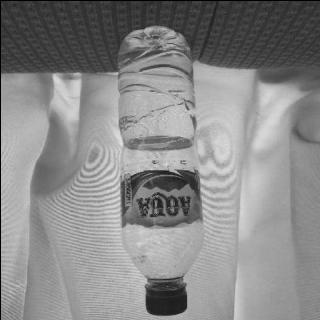plastic_bottles: (114, 22, 202, 316)
